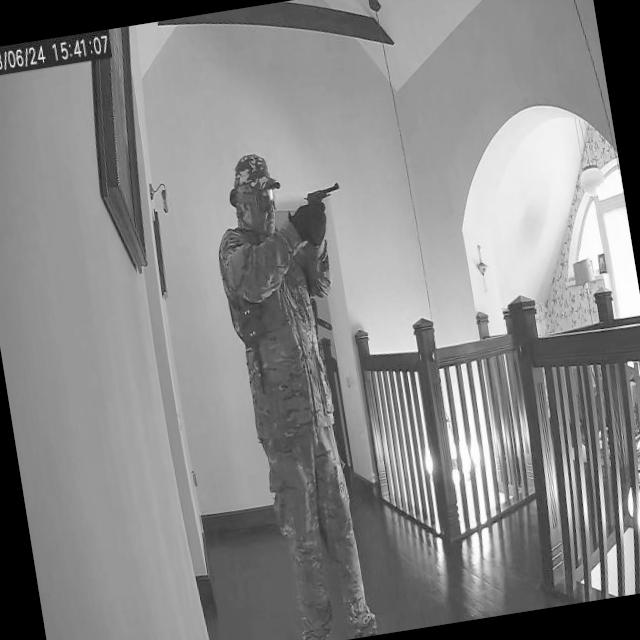gun: (302, 180, 345, 217)
person with a gun: (199, 136, 414, 640)
